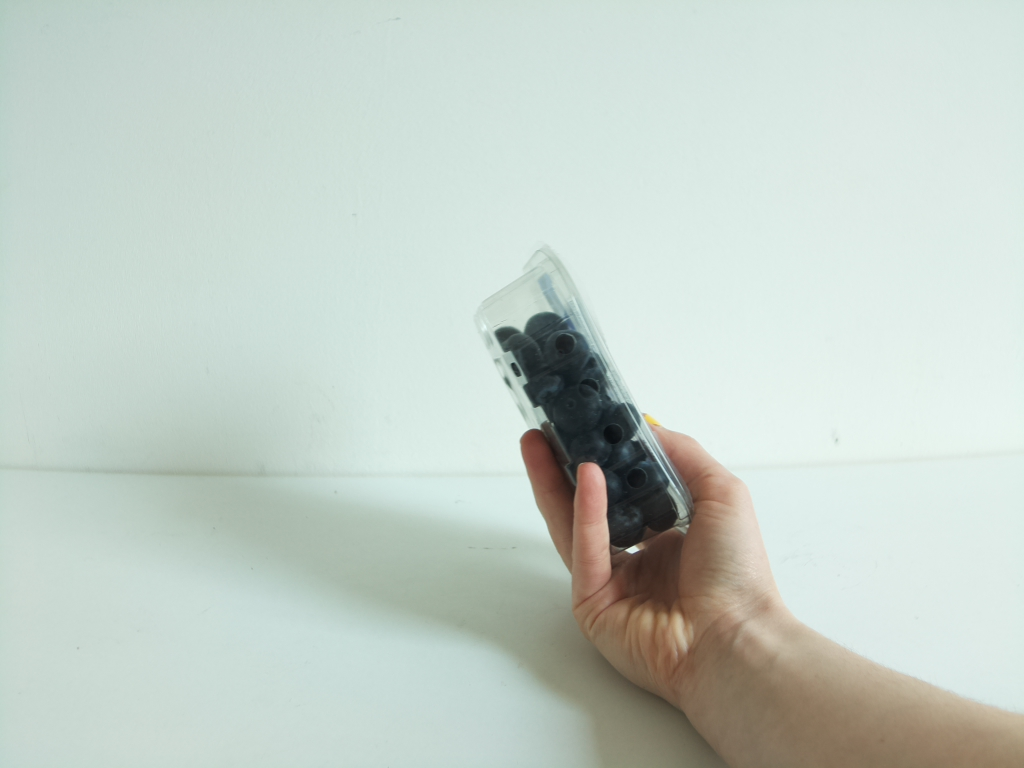soft-fruit: (466, 247, 694, 552)
